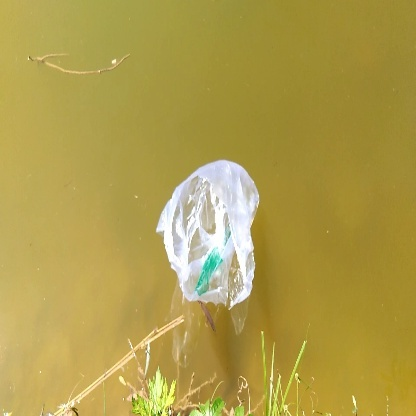plastic-bag: (157, 156, 264, 306)
